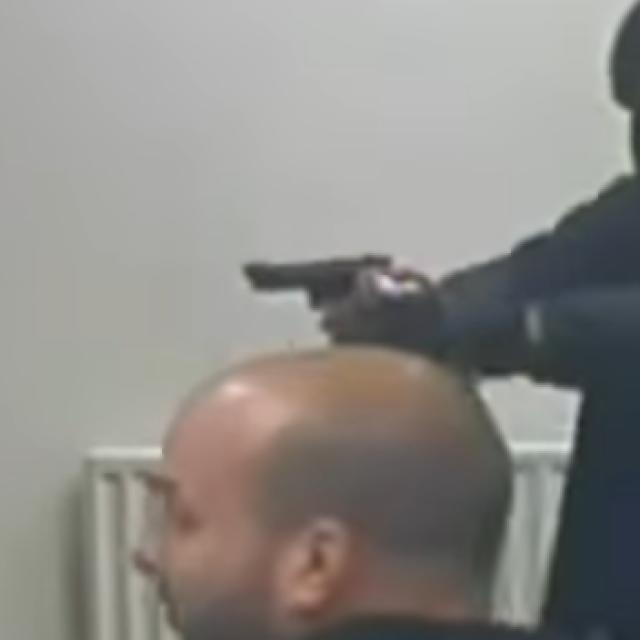FPistol: (236, 246, 402, 334)
